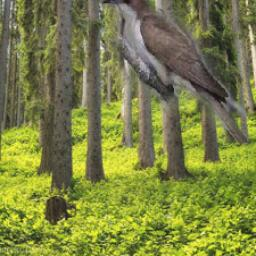Cuckoo: (101, 0, 249, 143)
